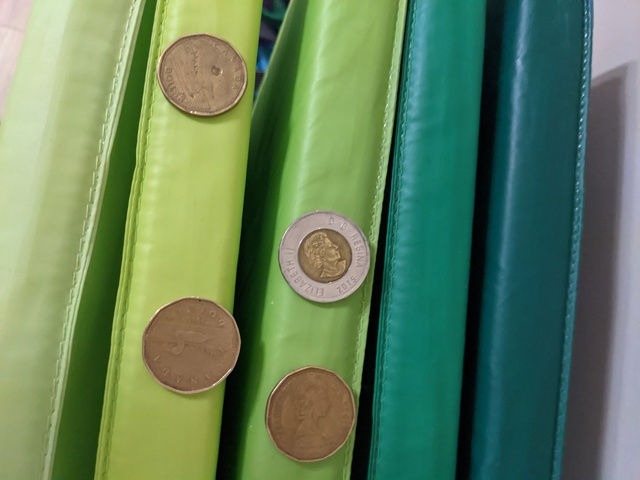loonie: (266, 359, 365, 471), (137, 296, 247, 395), (155, 29, 262, 121)
twonie: (275, 203, 375, 307)
